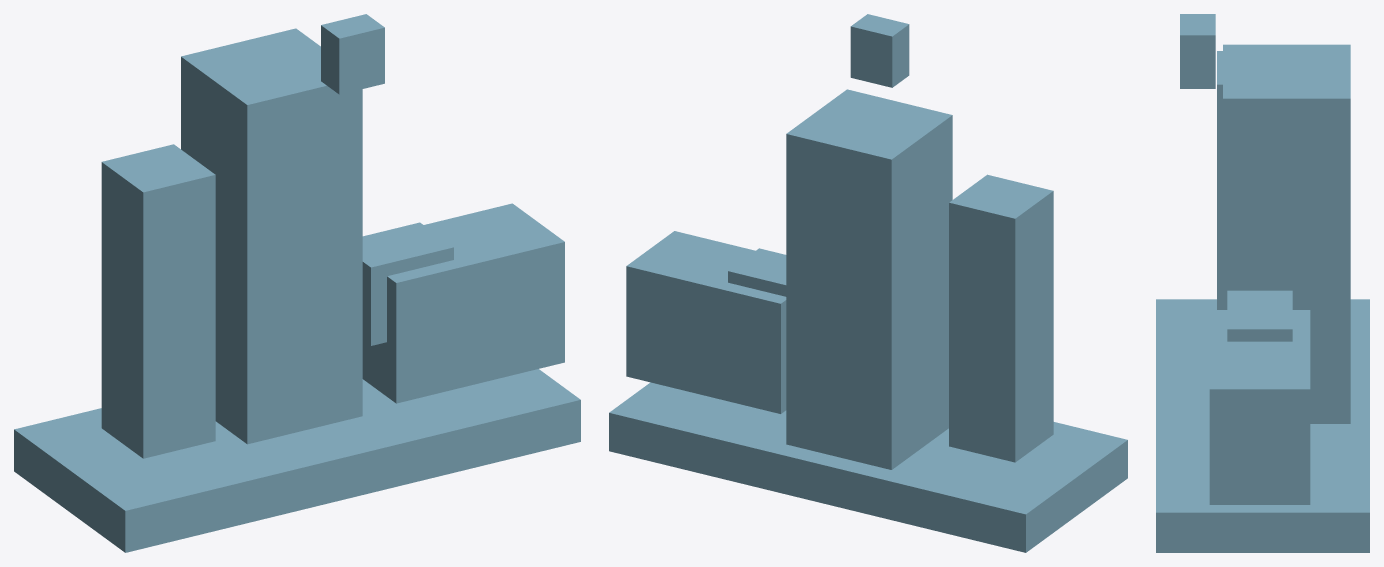
Rendered from PZ_Fieldline_Simple_Collision_ONLY.glb.
3 views of the same model, side by side, from view 1: azimuth 30°, elevation 25°; view 2: azimuth 150°, elevation 25°; view 3: azimuth 270°, elevation 25° (orthographic). The views are drawn at different scales.
Parts seen in each view (by area): view 1: UCX_Carbon_Vessel, UCX_Skid_Frame, UCX_Sediment_Housing, UCX_Pump_Motor, UCX_Pump_ValveBlock, UCX_Gauge_Body; view 2: UCX_Carbon_Vessel, UCX_Skid_Frame, UCX_Sediment_Housing, UCX_Pump_Motor, UCX_Gauge_Body, UCX_Pump_ValveBlock; view 3: UCX_Carbon_Vessel, UCX_Skid_Frame, UCX_Pump_Motor, UCX_Pump_ValveBlock, UCX_Gauge_Body, UCX_Sediment_Housing.
Part boxes in pixels (x1,y1,x2,y2): UCX_Carbon_Vessel: (181, 28, 362, 444); UCX_Skid_Frame: (14, 369, 580, 552); UCX_Sediment_Housing: (101, 144, 215, 458); UCX_Pump_Motor: (362, 203, 564, 403); UCX_Pump_ValveBlock: (362, 222, 453, 345); UCX_Gauge_Body: (321, 14, 384, 94); UCX_Carbon_Vessel: (786, 89, 952, 469); UCX_Skid_Frame: (609, 382, 1127, 552); UCX_Sediment_Housing: (949, 174, 1053, 462); UCX_Pump_Motor: (626, 231, 786, 413); UCX_Gauge_Body: (850, 14, 909, 87); UCX_Pump_ValveBlock: (728, 248, 786, 296); UCX_Carbon_Vessel: (1223, 44, 1350, 423); UCX_Skid_Frame: (1156, 299, 1369, 552); UCX_Pump_Motor: (1209, 310, 1310, 504); UCX_Pump_ValveBlock: (1227, 290, 1292, 341); UCX_Gauge_Body: (1180, 14, 1215, 88); UCX_Sediment_Housing: (1217, 51, 1222, 309).
Size of the model in its own units: 1.75 by 1.61 by 0.72.
